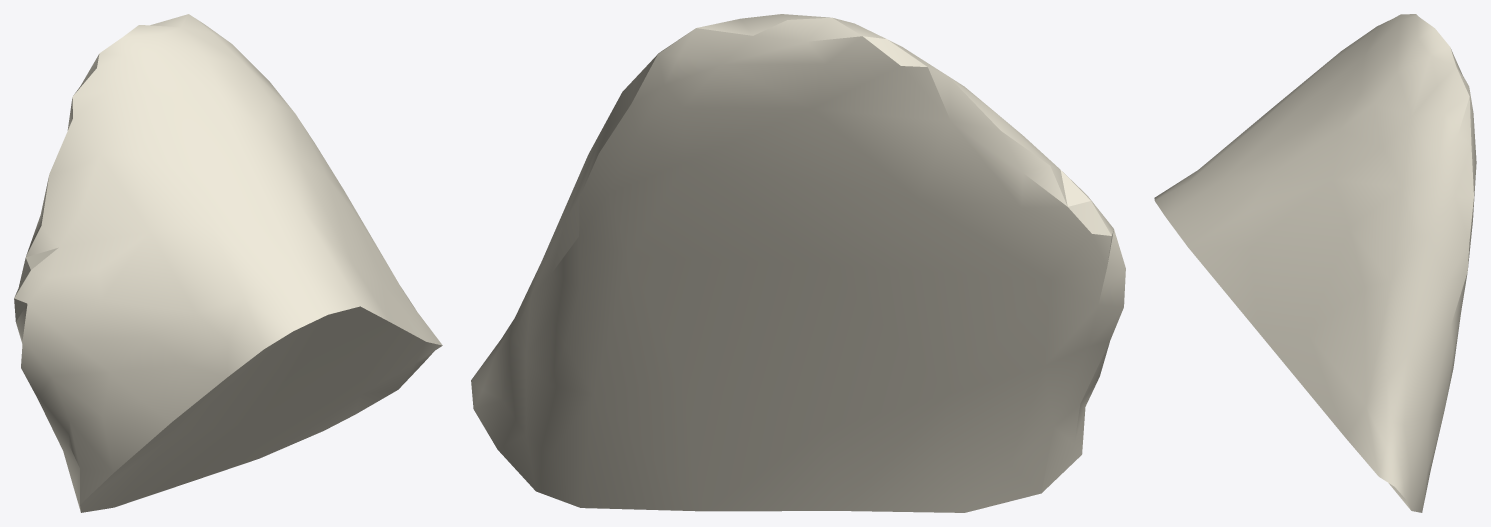
The model's file is fma12097_mm2391m.glb.
The picture shows the model from 3 angles, left to right: view 1: azimuth 30°, elevation 25°; view 2: azimuth 150°, elevation 25°; view 3: azimuth 270°, elevation 25°; orthographic projection. The views are drawn at different scales.
Parts seen in each view (by area): view 1: FMA12097_MM2391M; view 2: FMA12097_MM2391M; view 3: FMA12097_MM2391M.
Part boxes in pixels (x1,y1,x2,y2): FMA12097_MM2391M: (14, 14, 442, 512); FMA12097_MM2391M: (471, 14, 1125, 512); FMA12097_MM2391M: (1154, 14, 1476, 512).
Bounding box in the file's own units: 0.0127 × 0.0114 × 0.00833.
